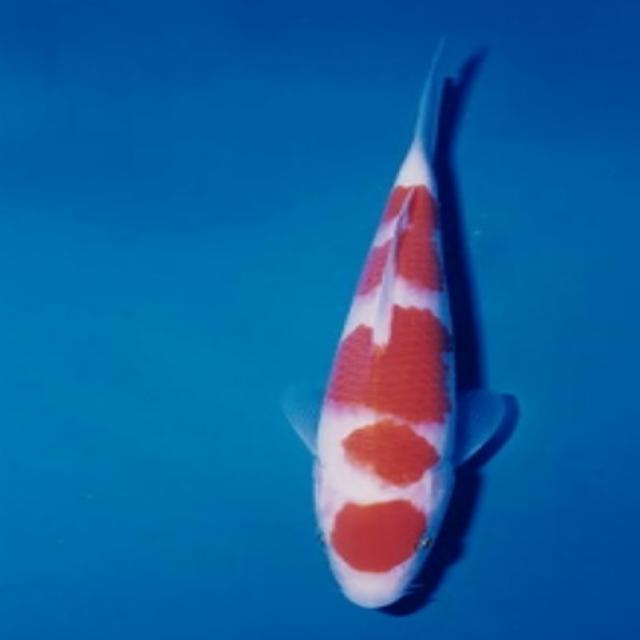Kohaku: (283, 37, 518, 613)
